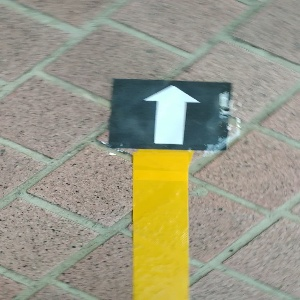straight: (109, 78, 229, 150)
